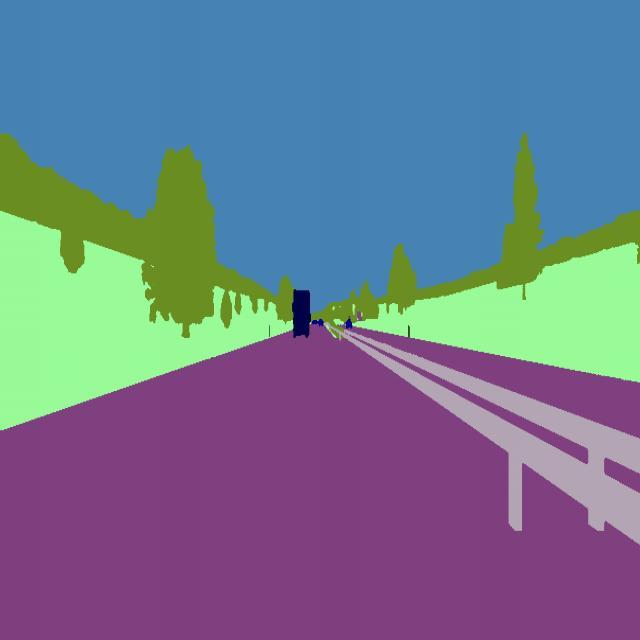safe: (290, 286, 312, 344), (342, 315, 354, 332), (316, 317, 328, 328)
